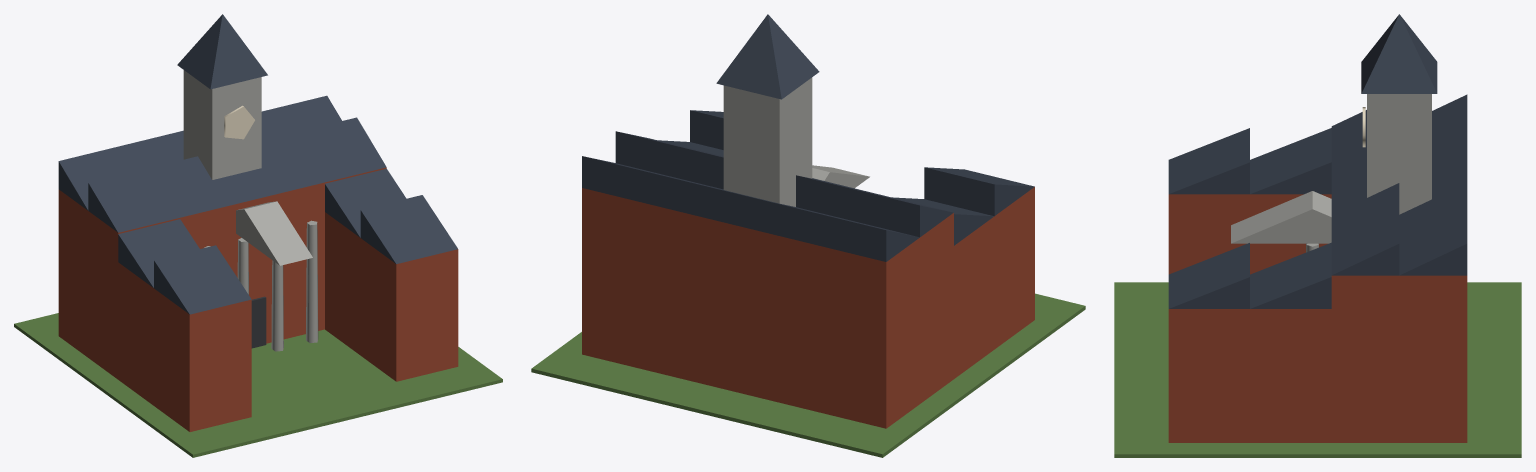
Rendered from bld_special_university_a05_lod2.glb.
The picture shows the model from 3 angles, left to right: view 1: azimuth 30°, elevation 25°; view 2: azimuth 150°, elevation 25°; view 3: azimuth 270°, elevation 25°; orthographic projection. The views are drawn at different scales.
Visible parts, largest first — view 1: body; view 2: body; view 3: body.
Boxes of the visible parts, x1,y1,x2,y2 form: body: (14,14,502,457); body: (531,14,1085,457); body: (1114,14,1521,457).
Bounding box in the file's own units: 15 × 14.55 × 15.
